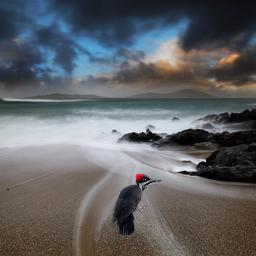Woodpecker: (110, 173, 163, 235)
